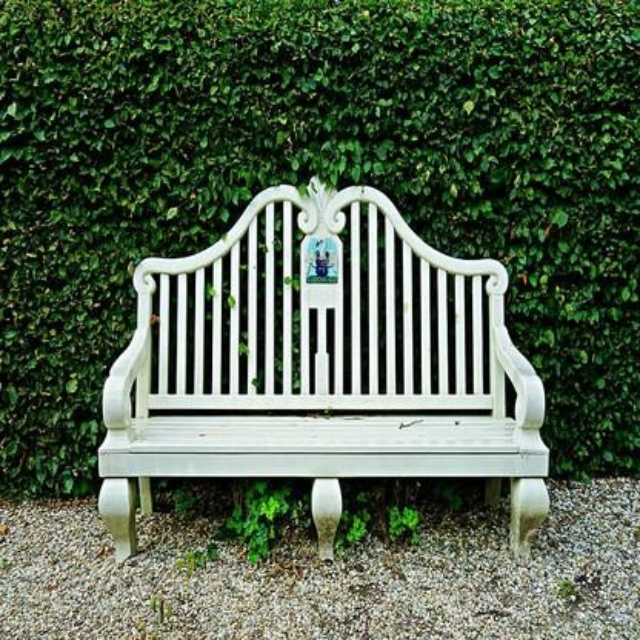obstacle: (85, 171, 540, 568)
